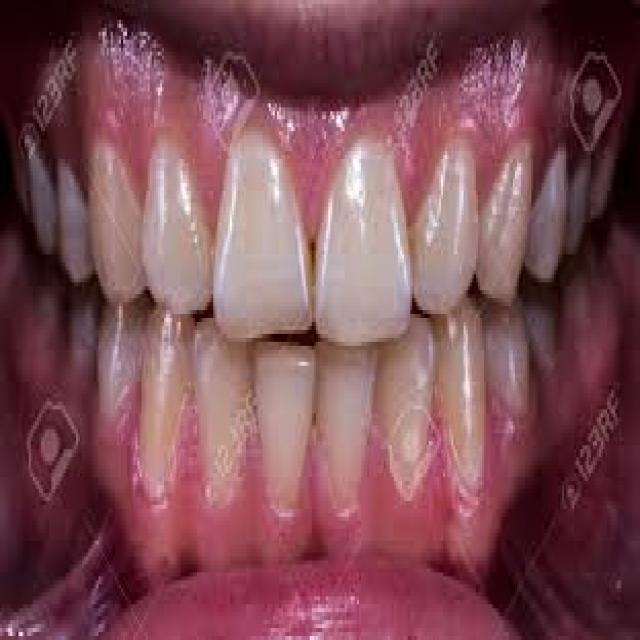tooth: (310, 135, 414, 342), (217, 143, 314, 346), (132, 131, 214, 318), (181, 314, 244, 489), (246, 342, 310, 505), (421, 139, 482, 302), (316, 342, 377, 501), (29, 143, 92, 282), (386, 330, 439, 489), (443, 310, 486, 505), (82, 159, 137, 306), (32, 306, 106, 406), (94, 318, 144, 453), (490, 171, 536, 314), (494, 314, 538, 445), (146, 342, 184, 473), (540, 163, 570, 266)
